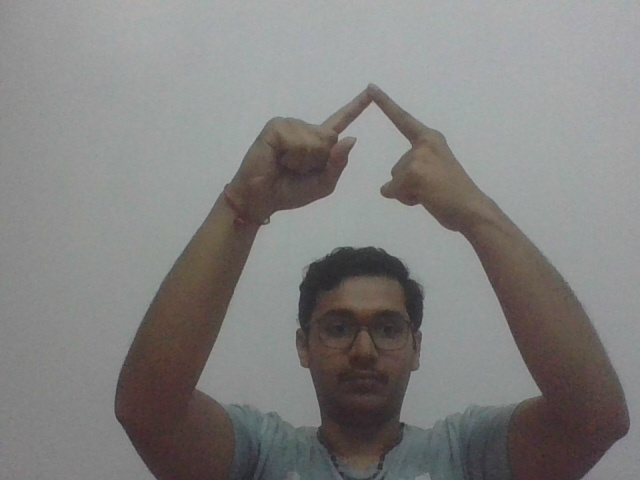E: (251, 81, 483, 213)
